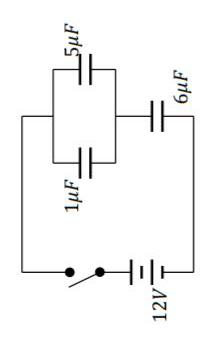Capacitor: (137, 88, 173, 138)
